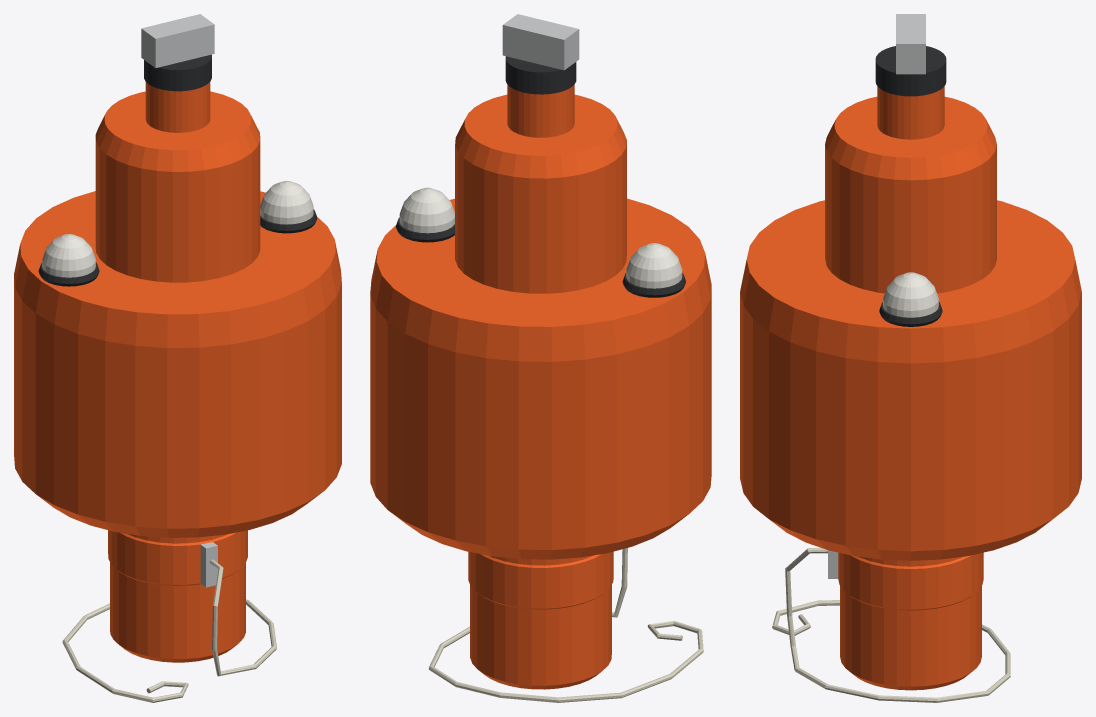
The picture shows the model from 3 angles, left to right: view 1: azimuth 30°, elevation 25°; view 2: azimuth 150°, elevation 25°; view 3: azimuth 270°, elevation 25°; orthographic projection. The views are drawn at different scales.
Parts seen in each view (by area): view 1: Main_body_neck_and_lower_shaft, Top_silver_plate_estimated_depth, Single_loose_connected_cord, Right_lamp_dome, Left_lamp_dome, Upper_dark_collar, Lower_front_cord_attachment, Left_lamp_seat, Right_lamp_seat; view 2: Main_body_neck_and_lower_shaft, Top_silver_plate_estimated_depth, Single_loose_connected_cord, Left_lamp_dome, Right_lamp_dome, Upper_dark_collar, Left_lamp_seat, Right_lamp_seat; view 3: Main_body_neck_and_lower_shaft, Single_loose_connected_cord, Upper_dark_collar, Right_lamp_dome, Top_silver_plate_estimated_depth, Right_lamp_seat.
Boxes of the visible parts, x1,y1,x2,y2 form: Main_body_neck_and_lower_shaft: (14,82,341,662); Top_silver_plate_estimated_depth: (141,14,214,67); Single_loose_connected_cord: (62,559,276,702); Right_lamp_dome: (260,180,313,224); Left_lamp_dome: (42,234,95,277); Upper_dark_collar: (144,54,211,91); Lower_front_cord_attachment: (200,542,217,587); Left_lamp_seat: (38,262,99,286); Right_lamp_seat: (260,209,317,233); Main_body_neck_and_lower_shaft: (370,84,711,689); Top_silver_plate_estimated_depth: (502,14,579,70); Single_loose_connected_cord: (428,548,703,702); Left_lamp_dome: (626,243,682,288); Right_lamp_dome: (399,187,454,233); Upper_dark_collar: (505,56,576,94); Left_lamp_seat: (622,273,685,297); Right_lamp_seat: (396,217,454,242); Main_body_neck_and_lower_shaft: (740,86,1081,690); Single_loose_connected_cord: (772,548,1010,702); Upper_dark_collar: (875,46,946,96); Right_lamp_dome: (883,272,938,317); Top_silver_plate_estimated_depth: (896,14,925,74); Right_lamp_seat: (879,302,942,326).
Bounding box in the file's own units: 0.183 × 0.375 × 0.183.
